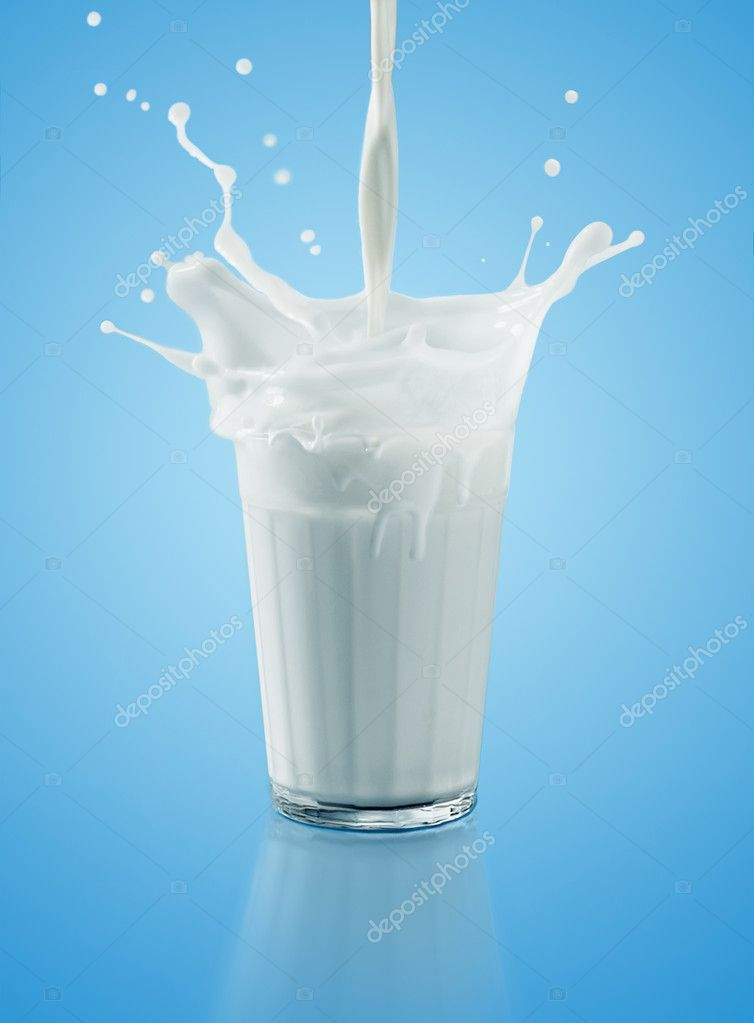glass of milk: (223, 340, 489, 828)
